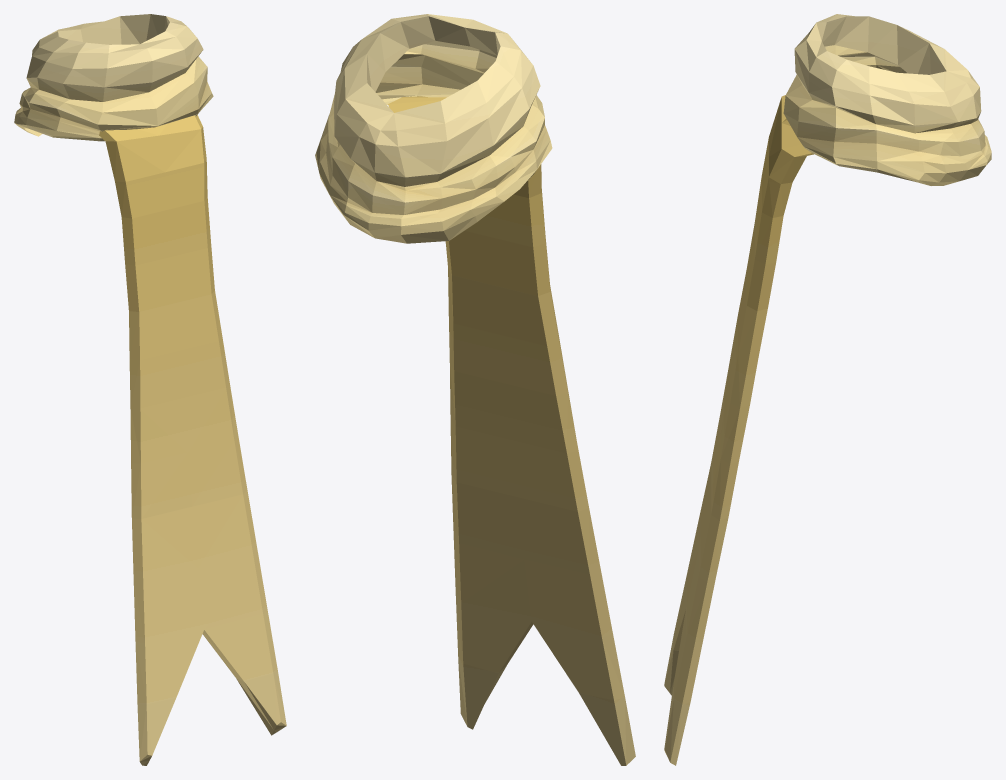
File: CharSkyKid_Wing_AP11Scarf_01.glb
3 views of the same model, side by side, from view 1: azimuth 30°, elevation 25°; view 2: azimuth 150°, elevation 25°; view 3: azimuth 270°, elevation 25° (orthographic). The views are drawn at different scales.
Visible parts, largest first — view 1: CharSkyKid_Wing_AP11Scarf_01; view 2: CharSkyKid_Wing_AP11Scarf_01; view 3: CharSkyKid_Wing_AP11Scarf_01.
Part boxes in pixels (x1,y1,x2,y2): CharSkyKid_Wing_AP11Scarf_01: [14, 14, 286, 765]; CharSkyKid_Wing_AP11Scarf_01: [315, 14, 635, 765]; CharSkyKid_Wing_AP11Scarf_01: [664, 14, 991, 765].
Size of the model in its own units: 2.42 by 8.74 by 3.73.
1 material, 1 textured.
